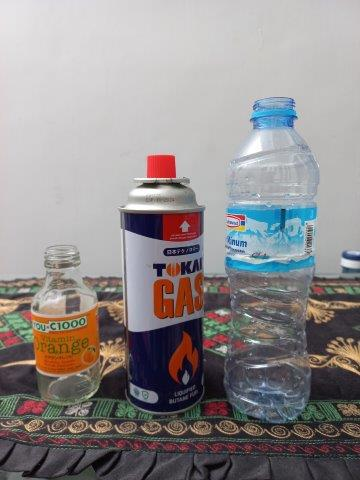botolkaca: (31, 246, 101, 405)
botolplastik: (226, 98, 322, 422)
kaleng: (122, 156, 206, 412)
